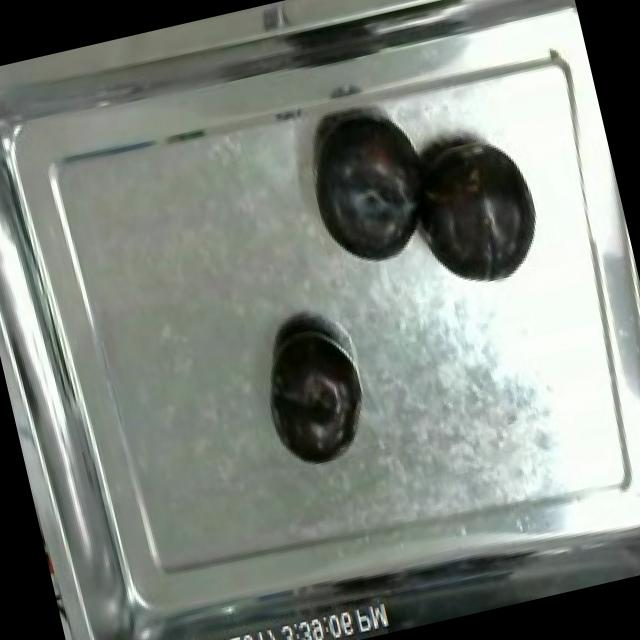Fruit: (396, 126, 554, 302), (296, 101, 444, 277), (250, 313, 374, 476)
